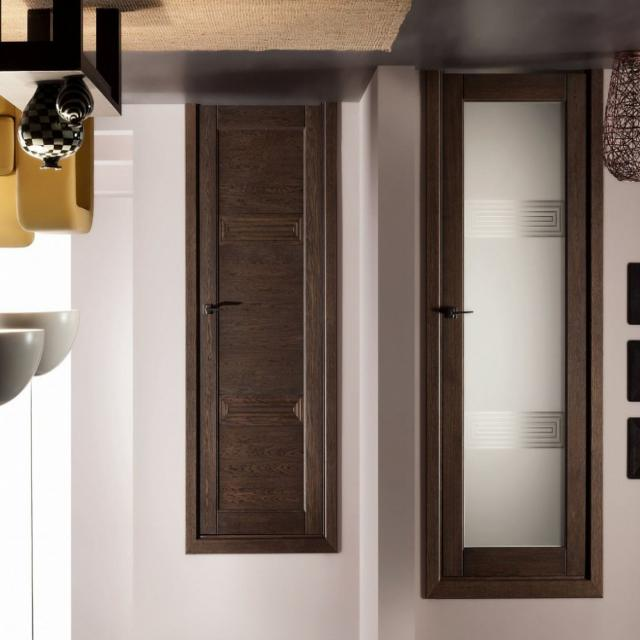close: (436, 71, 602, 587), (192, 93, 334, 541)
